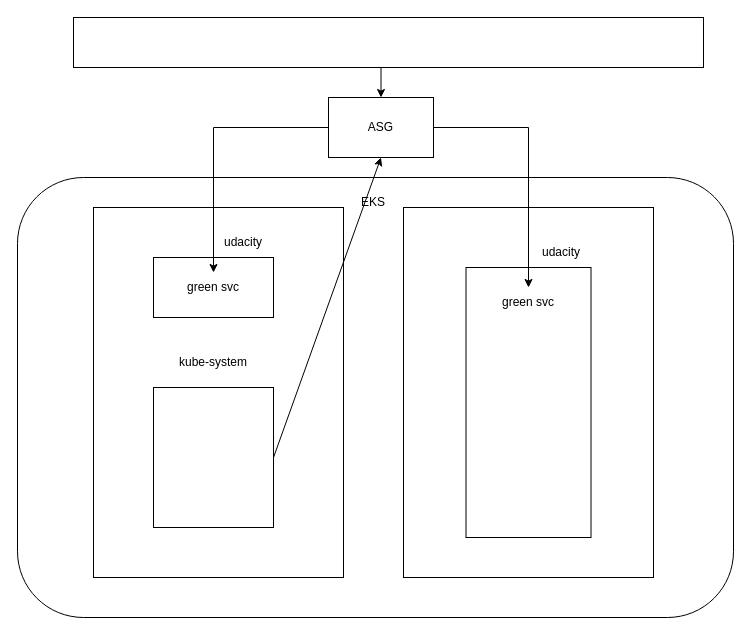
Some shapes in this 751 by 635 pixel diagram are drawn without their labels. The box of each missing label's shape, as (x1, y1, x2, y2) in pixels:
autoscaler: (152, 386, 274, 528)
AWS Load Balancer: (72, 16, 704, 68)
